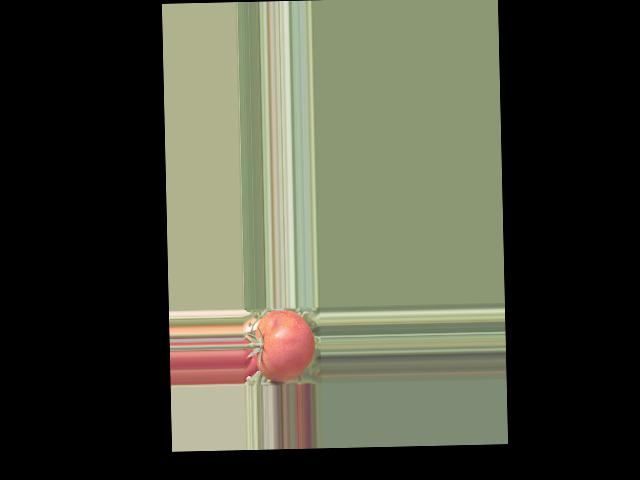tomato: (253, 309, 315, 381)
